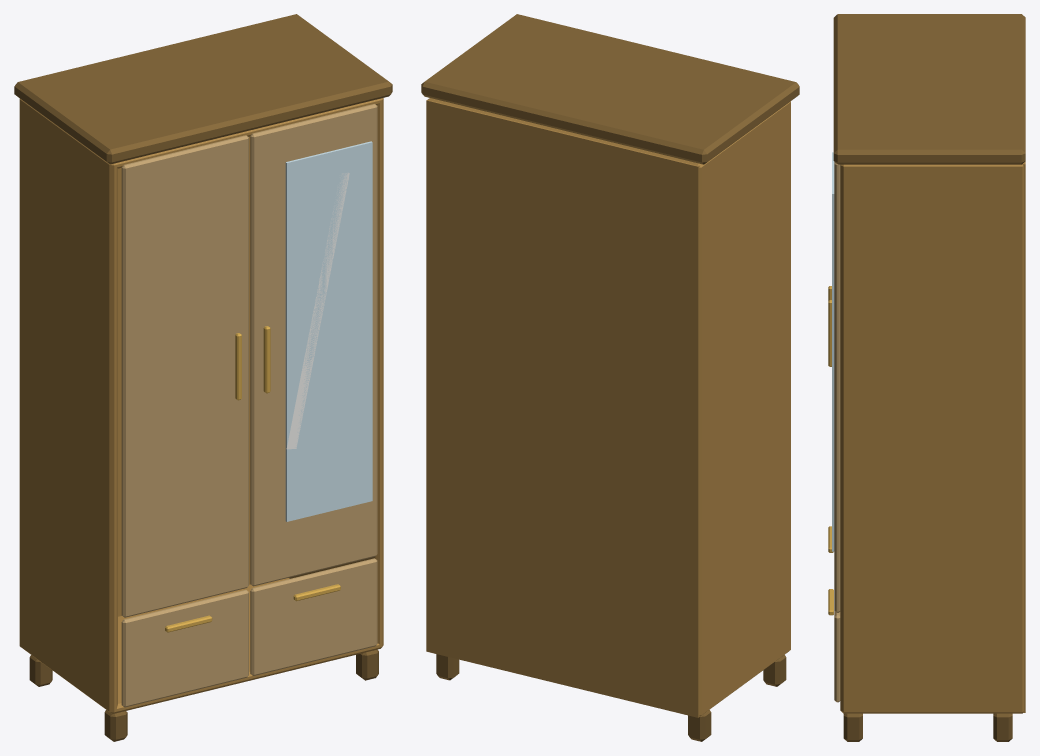
The model's file is wardrobe.glb.
3 renders of one model, left to right at view 1: azimuth 30°, elevation 25°; view 2: azimuth 150°, elevation 25°; view 3: azimuth 270°, elevation 25°, orthographic.
Visible parts, largest first — view 1: wardrobe_Body; view 2: wardrobe_Body; view 3: wardrobe_Body.
Part boxes in pixels (x1,y1,x2,y2): wardrobe_Body: [14, 14, 392, 741]; wardrobe_Body: [421, 14, 799, 741]; wardrobe_Body: [828, 14, 1025, 741].
Bounding box in the file's own units: 1 × 2 × 0.6.
